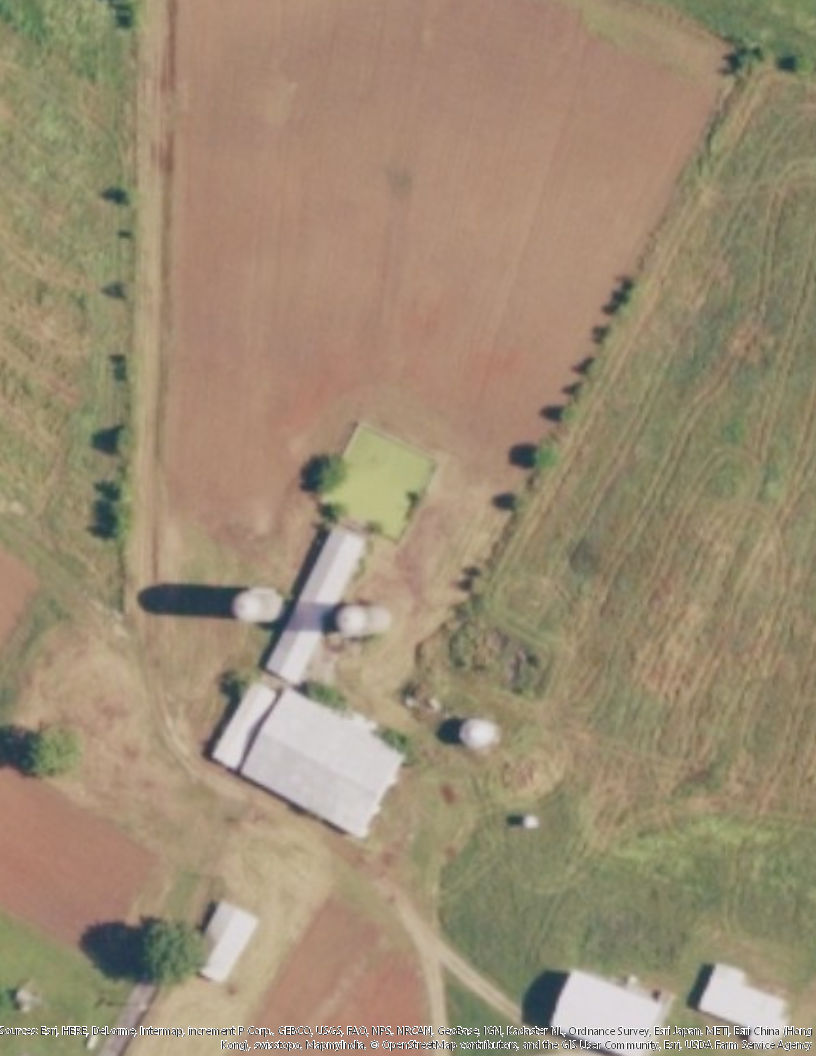cafo: (203, 676, 414, 839), (253, 510, 386, 688), (540, 957, 675, 1056)
